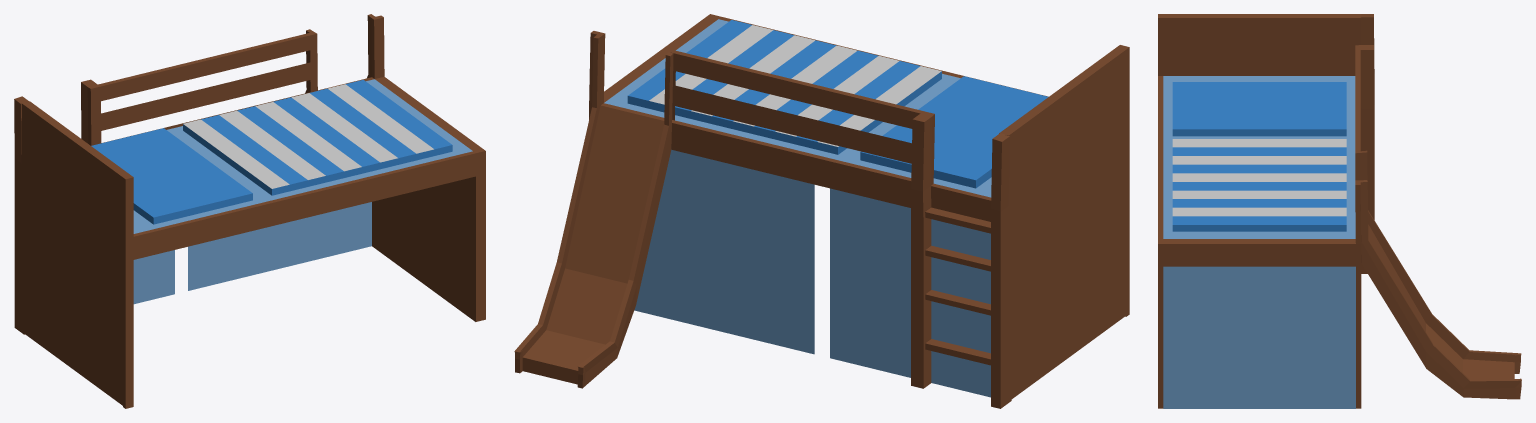
The model's file is Kinderbett.fbx.
3 views of the same model, side by side, from view 1: azimuth 30°, elevation 25°; view 2: azimuth 150°, elevation 25°; view 3: azimuth 270°, elevation 25° (orthographic). The views are drawn at different scales.
Parts seen in each view (by area): view 1: Cube.002; view 2: Cube.002; view 3: Cube.002.
Part boxes in pixels (<box>): Cube.002: <box>14,14,485,408</box>; Cube.002: <box>514,14,1129,408</box>; Cube.002: <box>1158,14,1521,408</box>.
Bounding box in the file's own units: 160 × 97.72 × 143.
